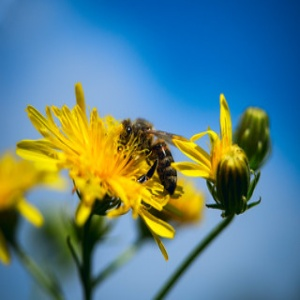bee: (116, 116, 184, 199)
